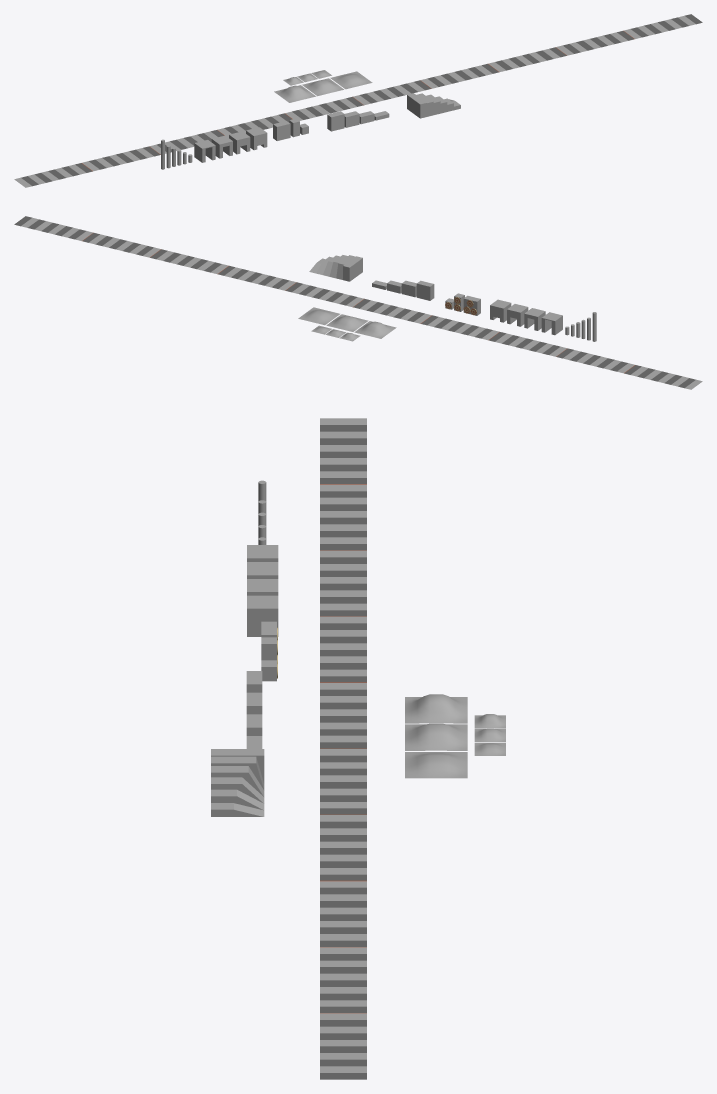
Rendered from Playground_Scene_Assets_01.fbx.
3 renders of one model, top to bottom at view 1: azimuth 30°, elevation 25°; view 2: azimuth 150°, elevation 25°; view 3: azimuth 270°, elevation 25°, orthographic. The views are drawn at different scales.
Visible parts, largest first — view 1: M100_meter, Crouch, Hill4X4_C, Hill4X4_A, Hill4X4_B, Slope_90, Plat_2M, pCube15; view 2: M100_meter, Crouch, Hill4X4_C, Hill4X4_A, Hill4X4_B, Slope_90, Plat_2M; view 3: M100_meter, Crouch, Hill4X4_C, Hill4X4_B, Hill4X4_A.
Part boxes in pixels (x1,y1,x2,y2): M100_meter: (14, 14, 702, 187); Crouch: (194, 127, 267, 162); Hill4X4_C: (274, 85, 316, 102); Hill4X4_A: (330, 71, 372, 89); Hill4X4_B: (302, 78, 343, 96); Slope_90: (407, 93, 426, 118); Plat_2M: (327, 111, 344, 131); pCube15: (273, 121, 290, 140); M100_meter: (14, 216, 702, 389); Crouch: (490, 299, 562, 335); Hill4X4_C: (354, 321, 396, 338); Hill4X4_A: (298, 307, 339, 325); Hill4X4_B: (326, 314, 368, 331); Slope_90: (343, 256, 362, 281); Plat_2M: (416, 280, 434, 300); M100_meter: (320, 418, 366, 1079); Crouch: (247, 545, 278, 636); Hill4X4_C: (405, 694, 467, 723); Hill4X4_B: (405, 723, 467, 750); Hill4X4_A: (405, 752, 467, 778).
Size of the model in its own units: 100 by 4 by 18.87.
